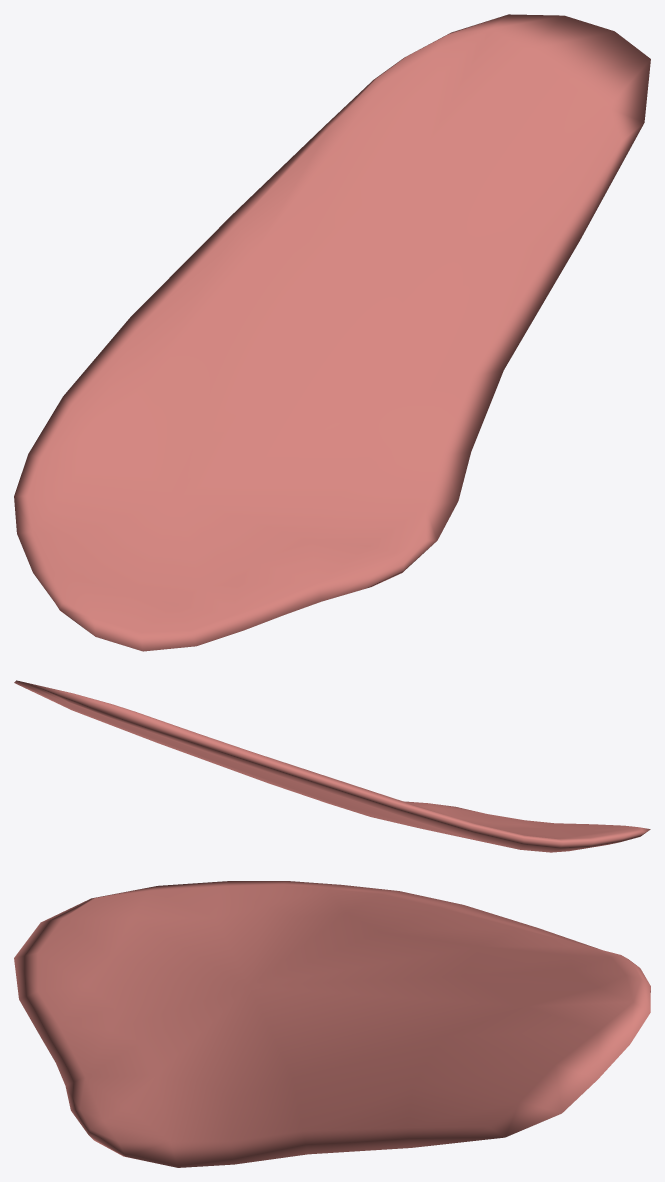
3 views of the same model, one above another, from view 1: azimuth 30°, elevation 25°; view 2: azimuth 150°, elevation 25°; view 3: azimuth 270°, elevation 25° (orthographic). The views are drawn at different scales.
Visible parts, largest first — view 1: ZA_00f4e1d92c87d8ef; view 2: ZA_00f4e1d92c87d8ef; view 3: ZA_00f4e1d92c87d8ef.
Part boxes in pixels (left/top/right/bottom): ZA_00f4e1d92c87d8ef: left=14, top=14, right=650, bottom=651; ZA_00f4e1d92c87d8ef: left=14, top=680, right=650, bottom=852; ZA_00f4e1d92c87d8ef: left=14, top=881, right=650, bottom=1167.
Size of the model in its own units: 0.0201 by 0.00694 by 0.0124.
